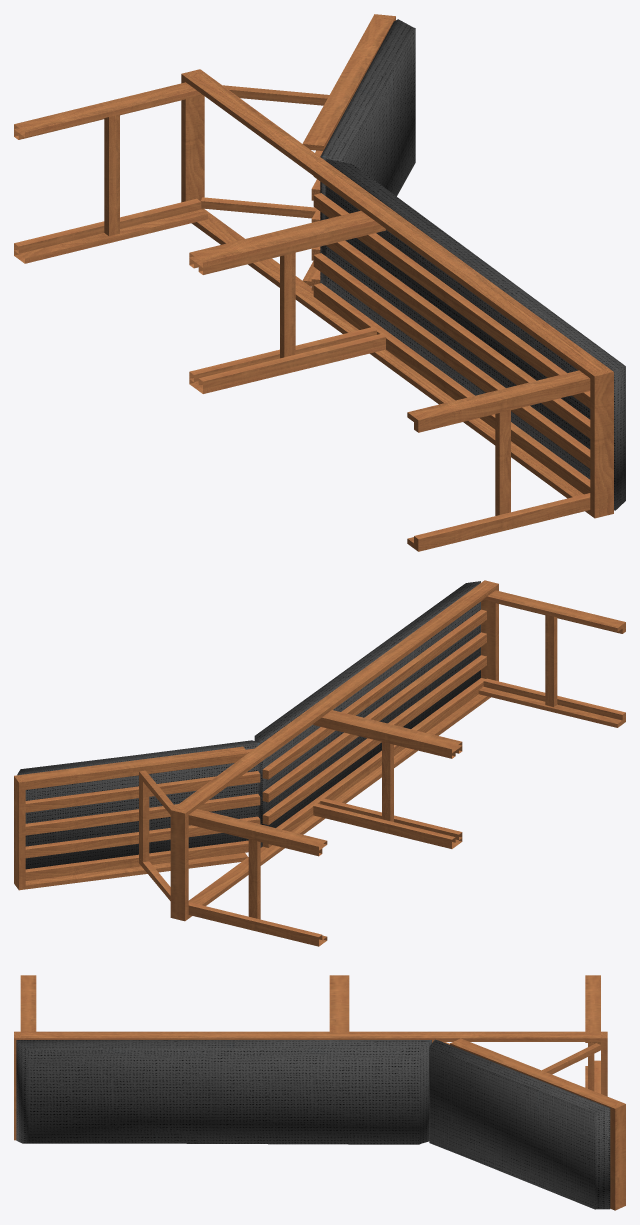
The model's file is Pool_Chair_02.fbx.
3 renders of one model, top to bottom at view 1: azimuth 30°, elevation 25°; view 2: azimuth 150°, elevation 25°; view 3: azimuth 270°, elevation 25°, orthographic. The views are drawn at different scales.
Parts seen in each view (by area): view 1: Pool_Table_01.008; view 2: Pool_Table_01.008; view 3: Pool_Table_01.008.
Part boxes in pixels (x1,y1,x2,y2): Pool_Table_01.008: [14, 14, 625, 551]; Pool_Table_01.008: [14, 580, 625, 946]; Pool_Table_01.008: [14, 975, 625, 1210].
Size of the model in its own units: 120 by 40.8 by 222.
